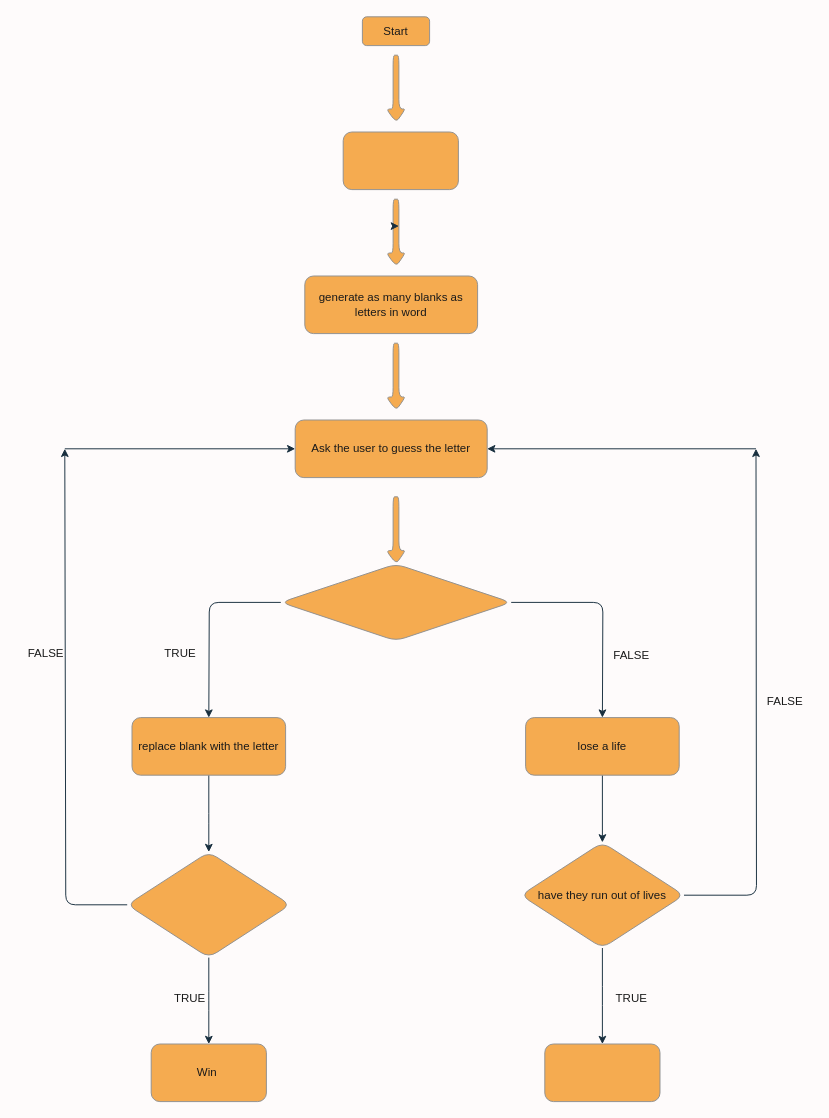
Image size: 829x1118. Some labels were removed from this diagram. Each missing label, with the box of its shape:
Are all the blanks filled: (126, 851, 290, 958)
Generate a random word: (342, 131, 458, 190)
Is the guessed letter in the word: (280, 563, 511, 641)
lose: (544, 1043, 660, 1102)
